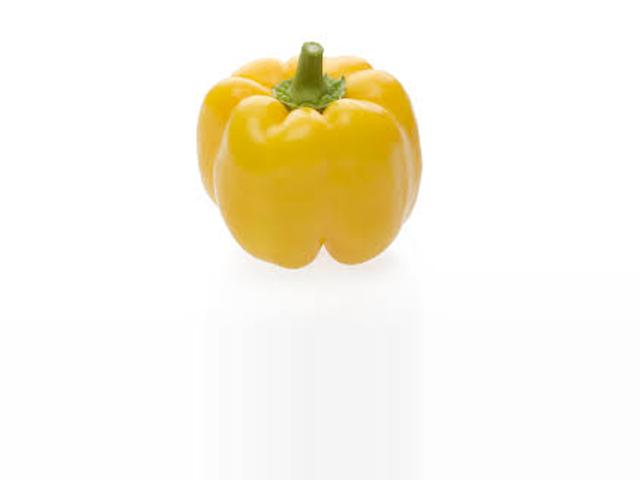bell_pepper: (180, 32, 418, 272)
